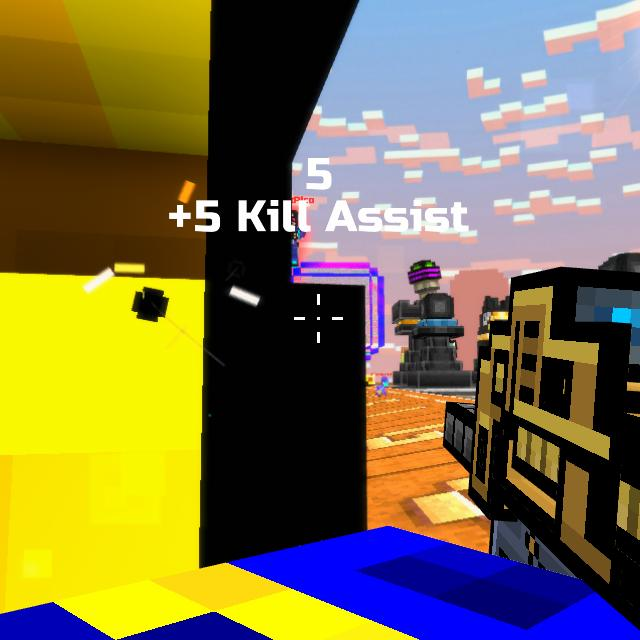Enemy: (290, 210, 308, 275)
